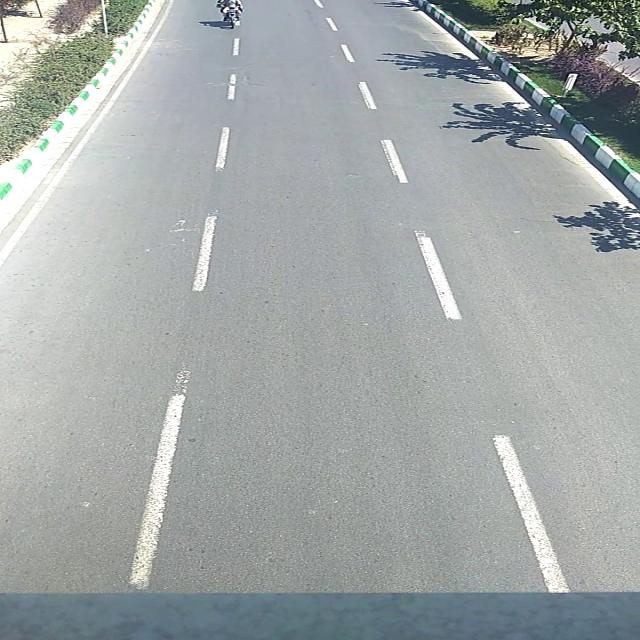motor: (216, 0, 248, 30)
